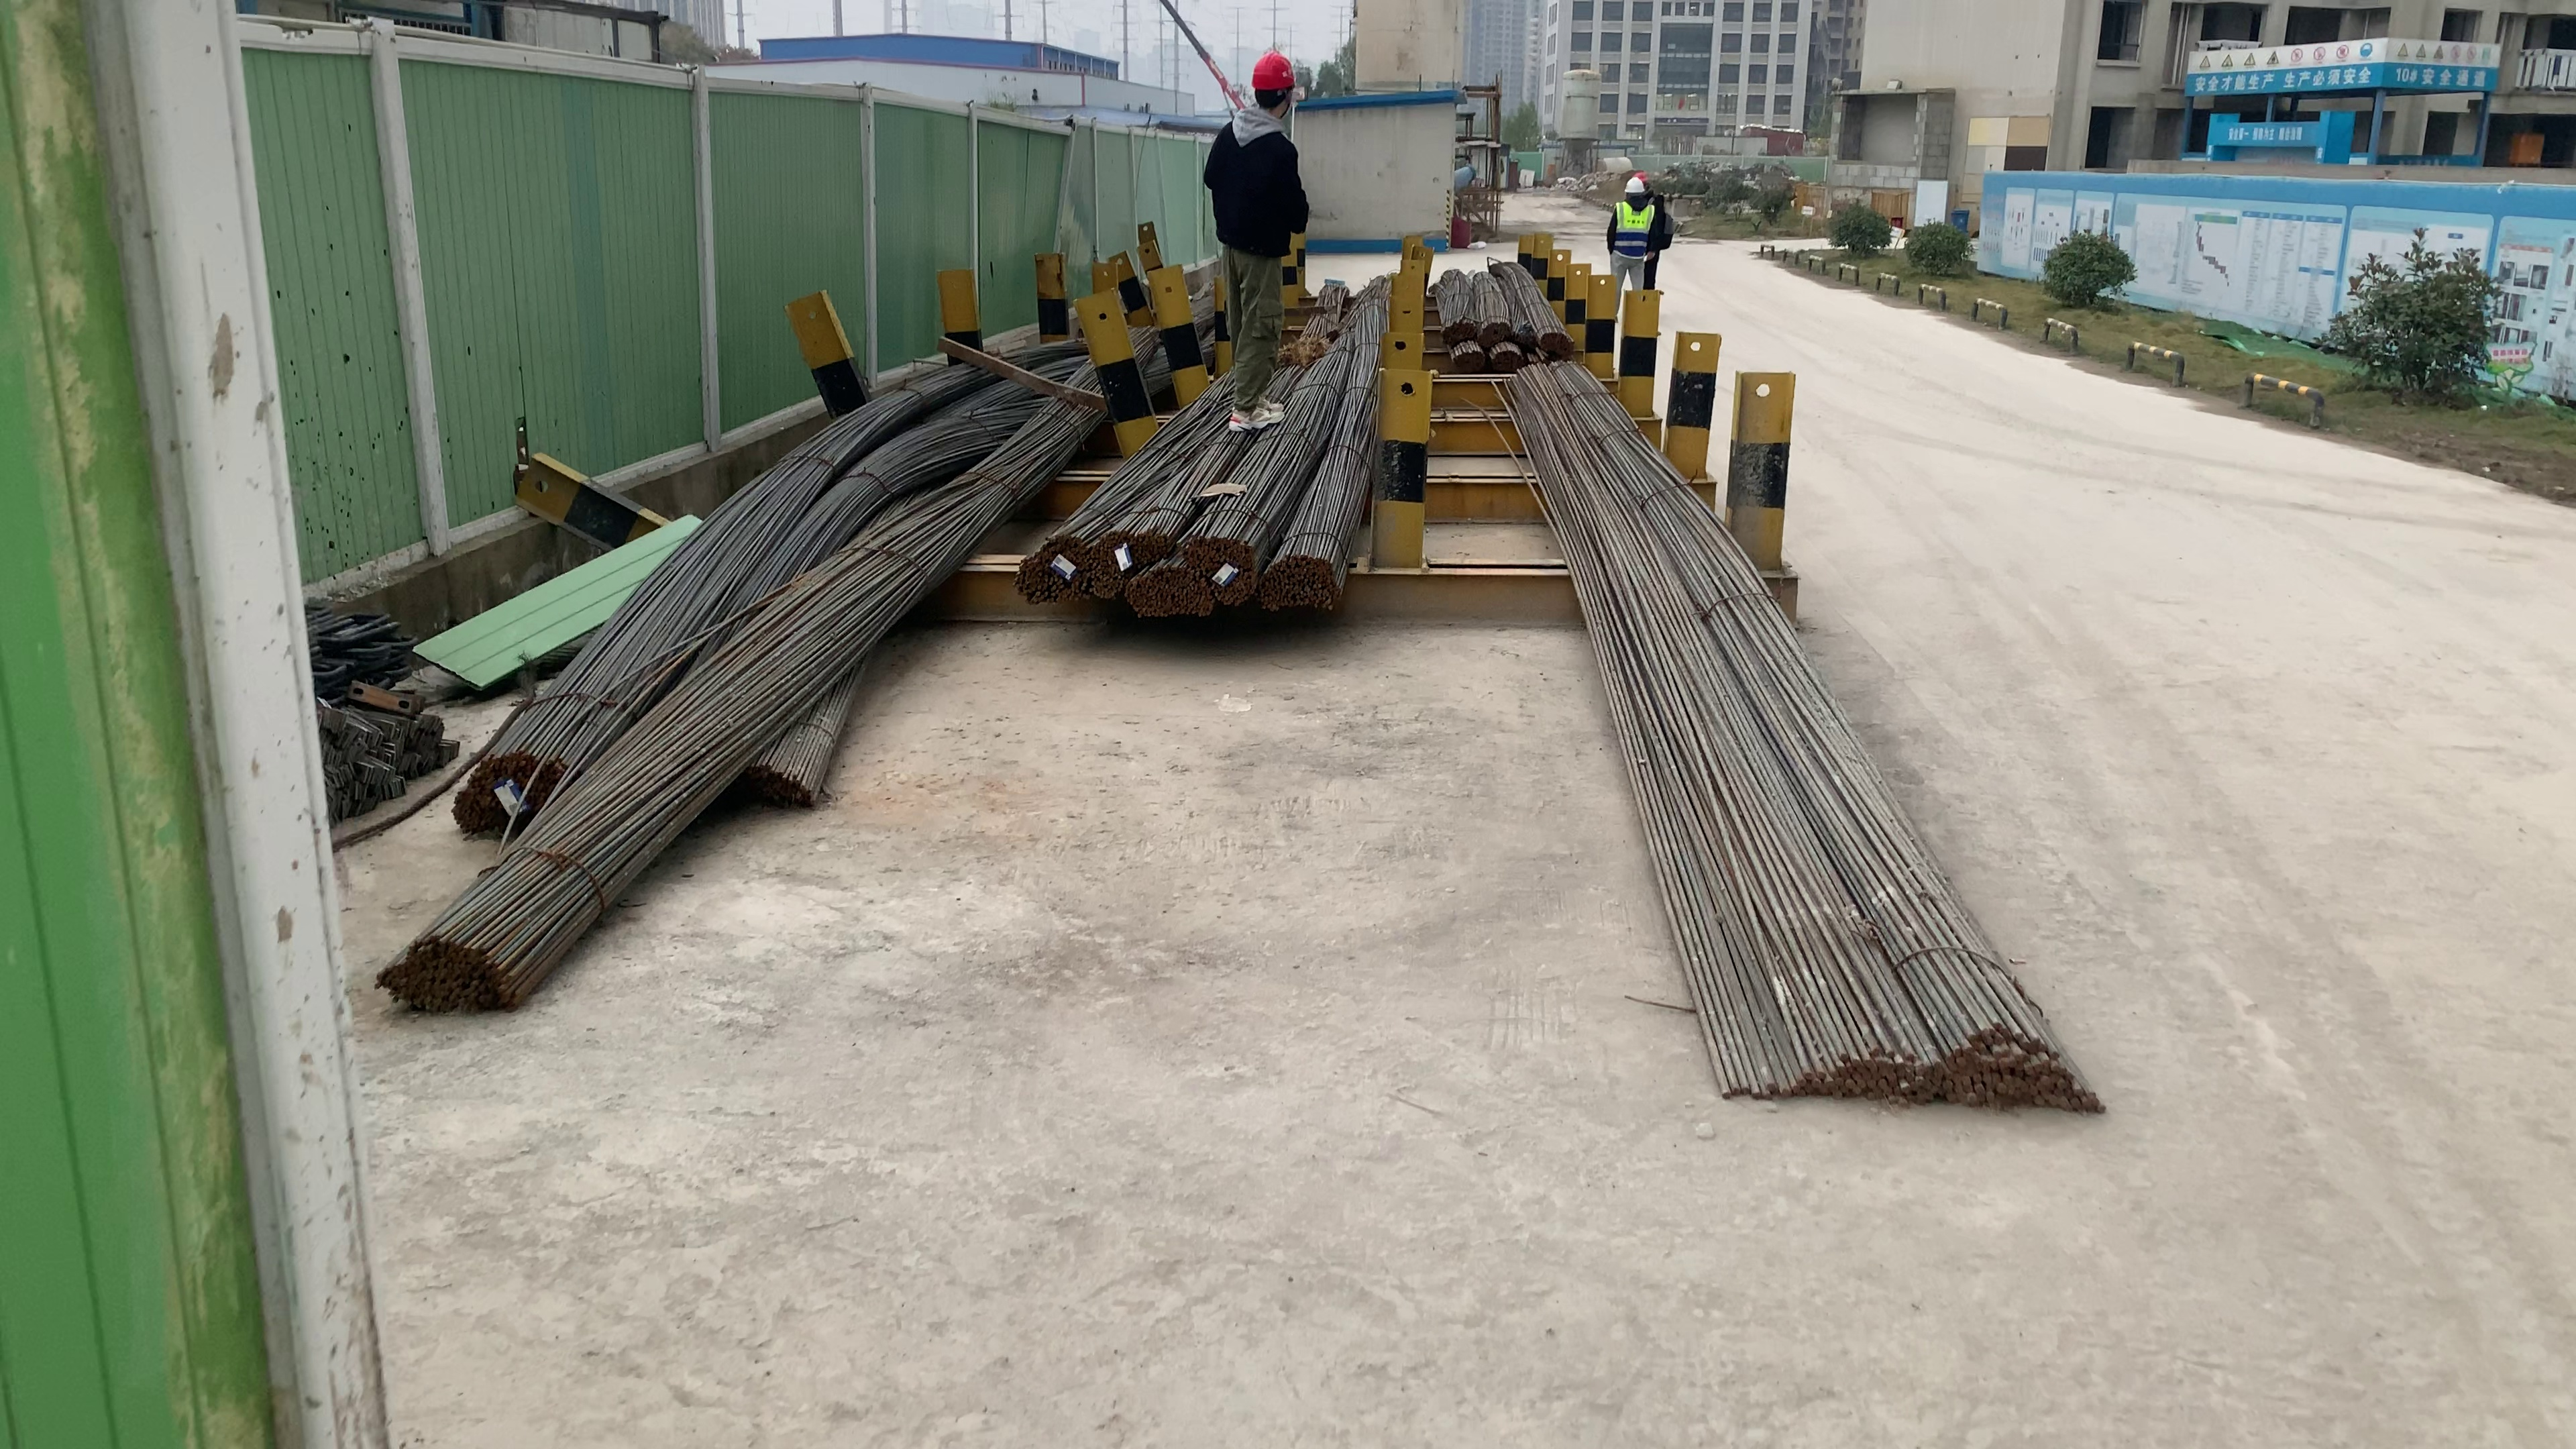rebar: (1718, 1040, 2105, 1127), (370, 929, 518, 1014), (437, 754, 564, 826), (1184, 531, 1258, 600), (727, 755, 819, 810), (1263, 550, 1352, 607), (1017, 536, 1088, 602), (1090, 525, 1169, 573), (1131, 571, 1214, 616), (1537, 324, 1576, 357), (1493, 347, 1523, 372), (1453, 347, 1481, 372), (1445, 313, 1476, 336), (1488, 317, 1509, 338)
